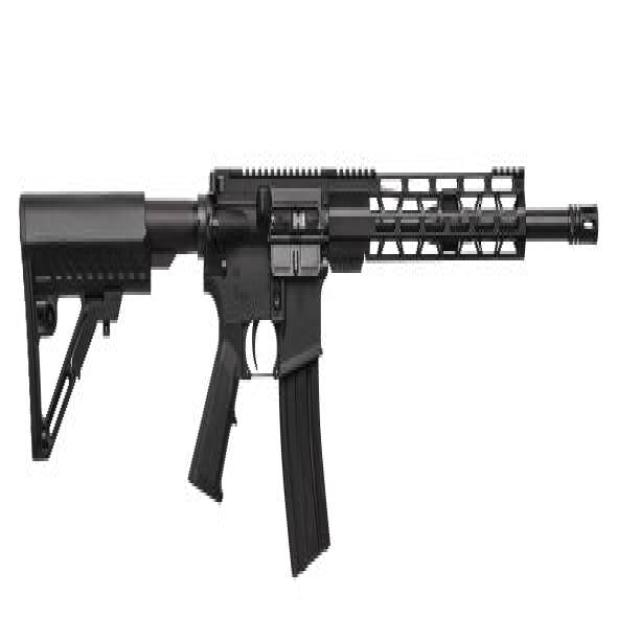rifle: (16, 115, 602, 587)
